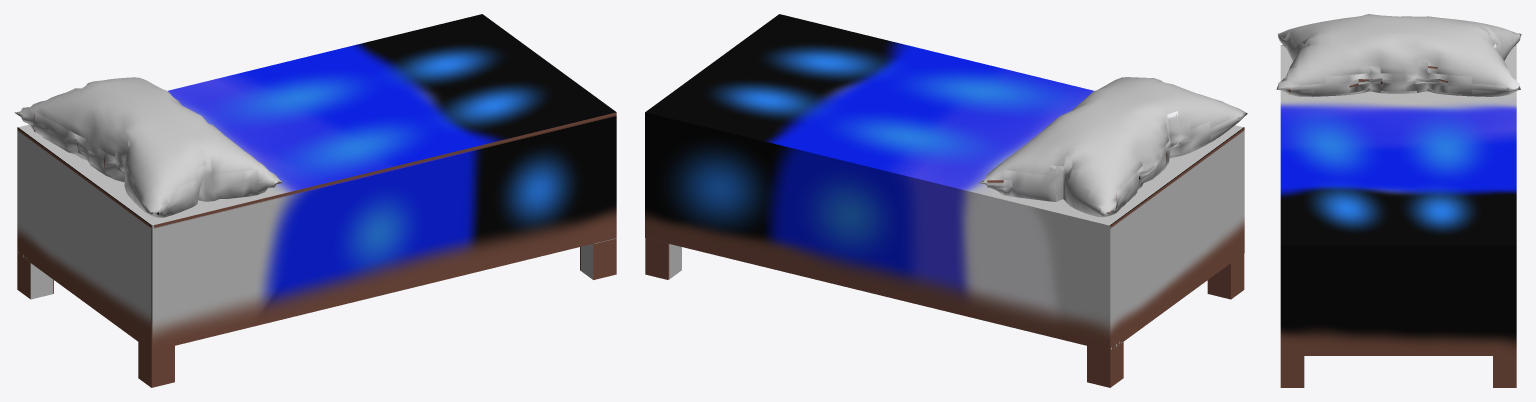
The model's file is twin_bed.glb.
3 renders of one model, left to right at view 1: azimuth 30°, elevation 25°; view 2: azimuth 150°, elevation 25°; view 3: azimuth 270°, elevation 25°, orthographic. The views are drawn at different scales.
Visible parts, largest first — view 1: Bed; view 2: Bed; view 3: Bed.
Part boxes in pixels (x1=…): Bed: x1=14, y1=14, x2=616, y2=387; Bed: x1=645, y1=14, x2=1247, y2=387; Bed: x1=1276, y1=14, x2=1521, y2=387.
Size of the model in its own units: 2.01 by 0.8921 by 1.04.
1 material, 1 textured.
